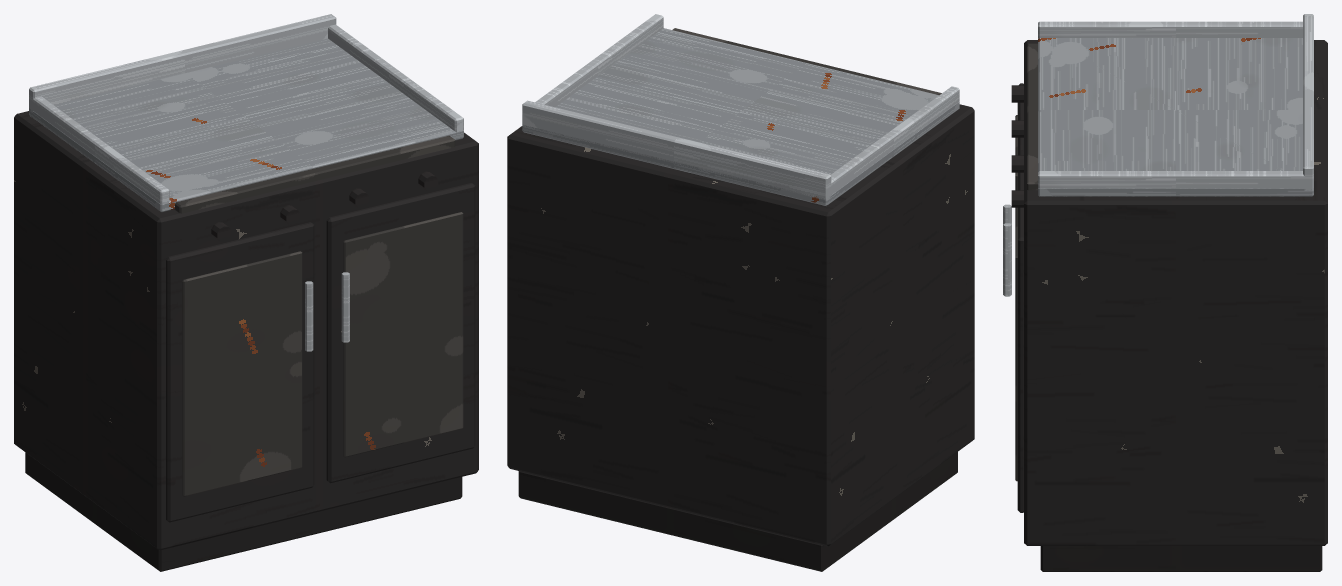
File: griddle_cab.glb
3 renders of one model, left to right at view 1: azimuth 30°, elevation 25°; view 2: azimuth 150°, elevation 25°; view 3: azimuth 270°, elevation 25°, orthographic. The views are drawn at different scales.
Parts seen in each view (by area): view 1: p; view 2: p; view 3: p.
Part boxes in pixels (left/top/right/bottom): p: left=14, top=14, right=478, bottom=571; p: left=507, top=14, right=974, bottom=571; p: left=1003, top=14, right=1327, bottom=571.
Size of the model in its own units: 0.7 by 0.81 by 0.588.
Materials: 5 (5 with a texture image).
